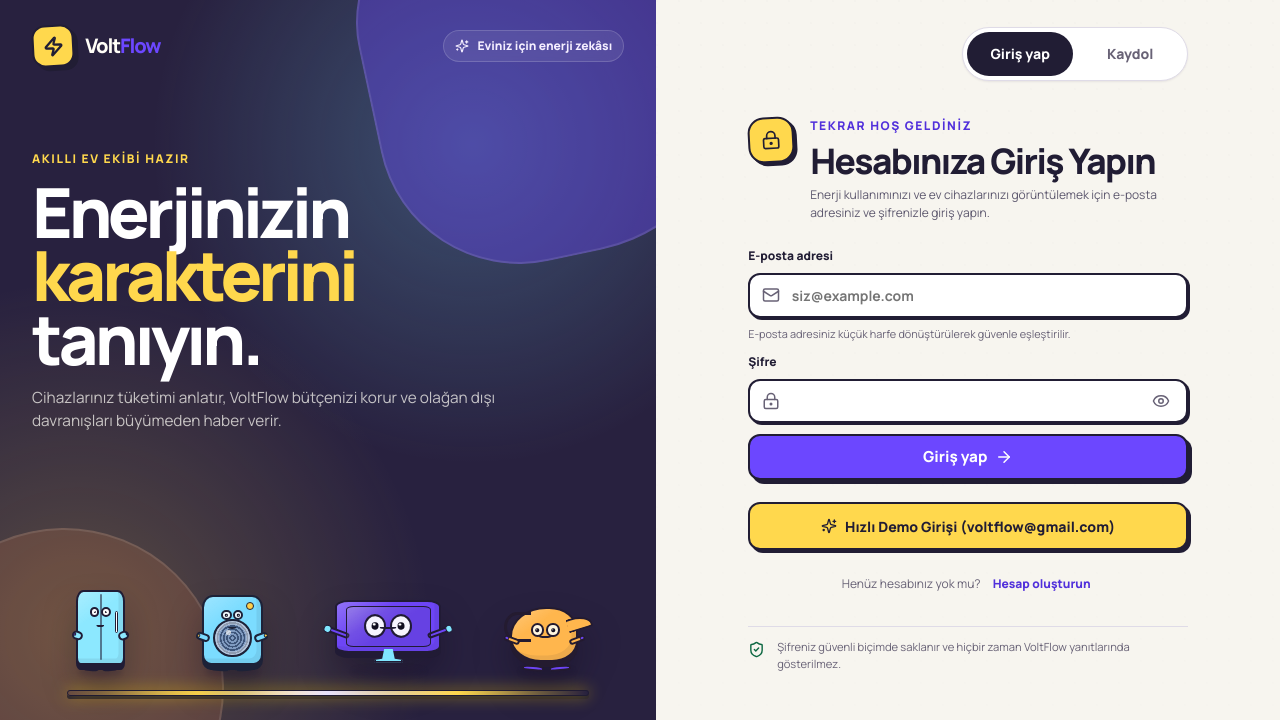
it: LoginPage email and password authentication › shows a generic invalid-credentials error and preserves the email
Type "owner@example.com" into the field labelled "E-posta adresi" at (968, 295), box [748,273,1188,318]
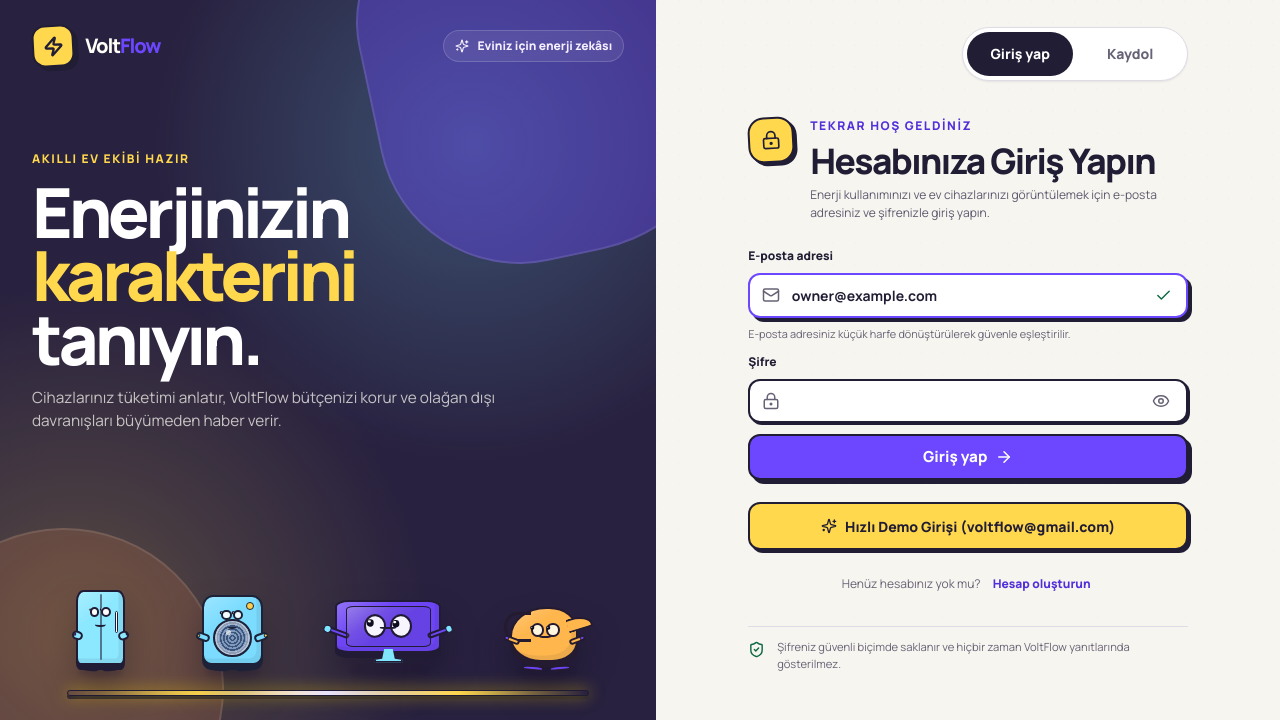
Type "wrongPassword" into the password field labelled "Şifre" at (968, 401), box [748,379,1188,423]
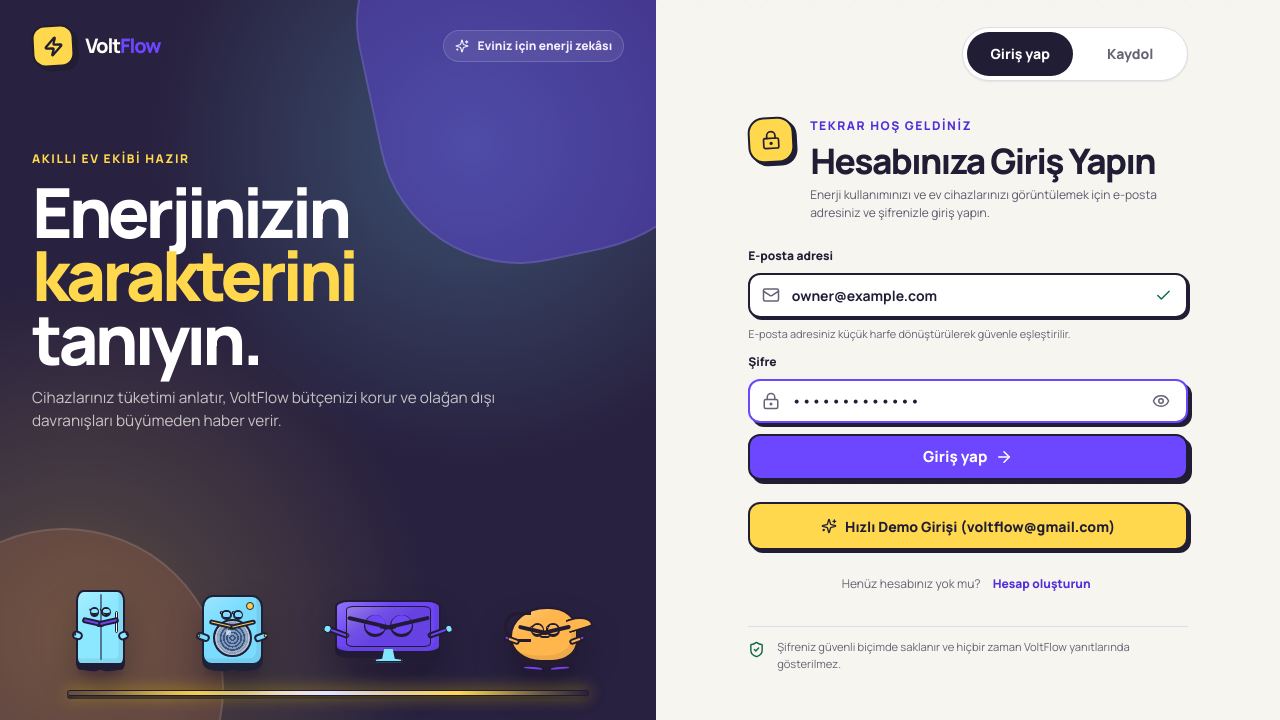
Click the 2nd button "Giriş yap" at (968, 457), box [748,434,1188,480]
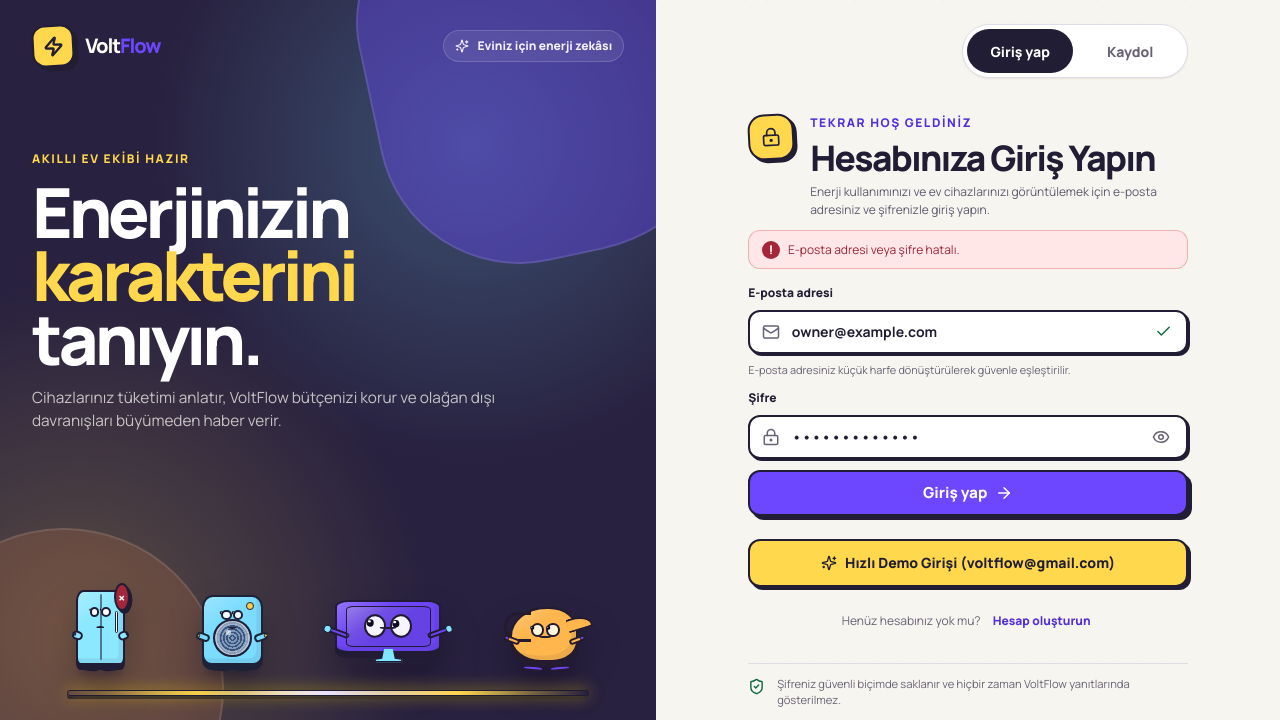
Now the message shows "E-posta adresi veya şifre hatalı.", box [788,241,960,258]
